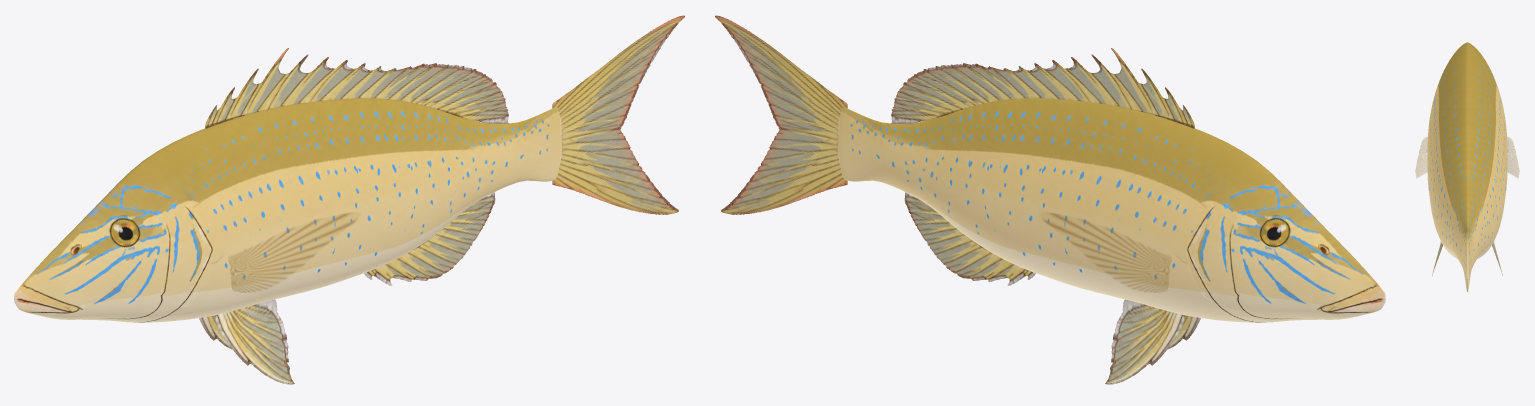
Rendered from hamafuefuki-normal-v5.glb.
3 views of the same model, side by side, from view 1: azimuth 30°, elevation 25°; view 2: azimuth 150°, elevation 25°; view 3: azimuth 270°, elevation 25° (orthographic). The views are drawn at different scales.
Parts seen in each view (by area): view 1: body, median_fins, pectoral_1, operculum_1, pelvic_1; view 2: body, median_fins, pectoral_-1, operculum_-1, pelvic_-1; view 3: body, pectoral_-1, pectoral_1.
Part boxes in pixels (box(x1,y1,x2,y2)): body: box(14, 98, 561, 322); median_fins: box(205, 15, 684, 285); pectoral_1: box(228, 212, 360, 292); operculum_1: box(157, 176, 212, 314); pelvic_1: box(215, 299, 294, 384); body: box(838, 98, 1385, 322); median_fins: box(715, 15, 1194, 285); pectoral_-1: box(1039, 212, 1171, 292); operculum_-1: box(1187, 176, 1244, 314); pelvic_-1: box(1105, 299, 1184, 384); body: box(1427, 42, 1507, 291); pectoral_-1: box(1507, 137, 1519, 177); pectoral_1: box(1415, 137, 1427, 177).
Size of the model in its own units: 0.4507 by 0.2031 by 0.0788.
2 materials, 2 textured.
